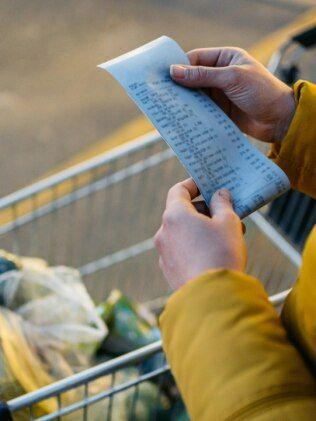receipt-in-hand: (99, 36, 289, 217)
